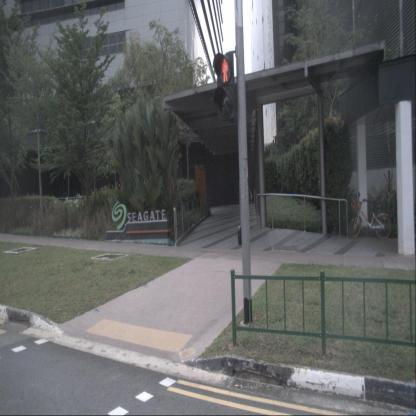vehicle-bicycle: (348, 190, 392, 240)
